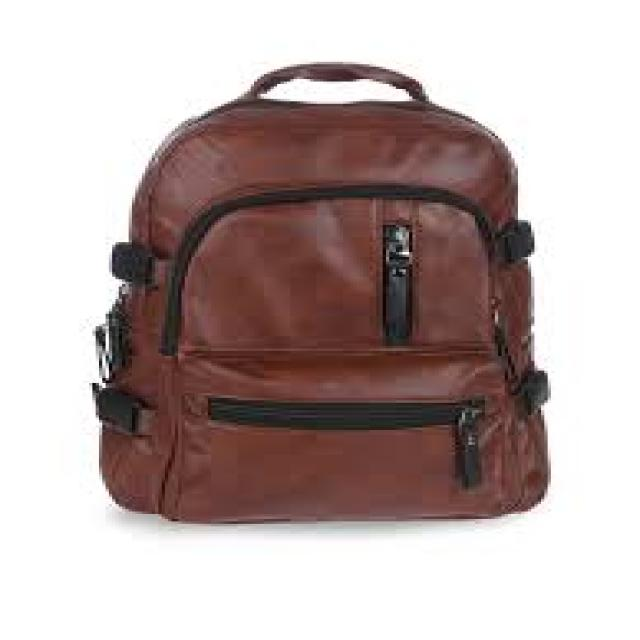backpack: (90, 61, 552, 523)
